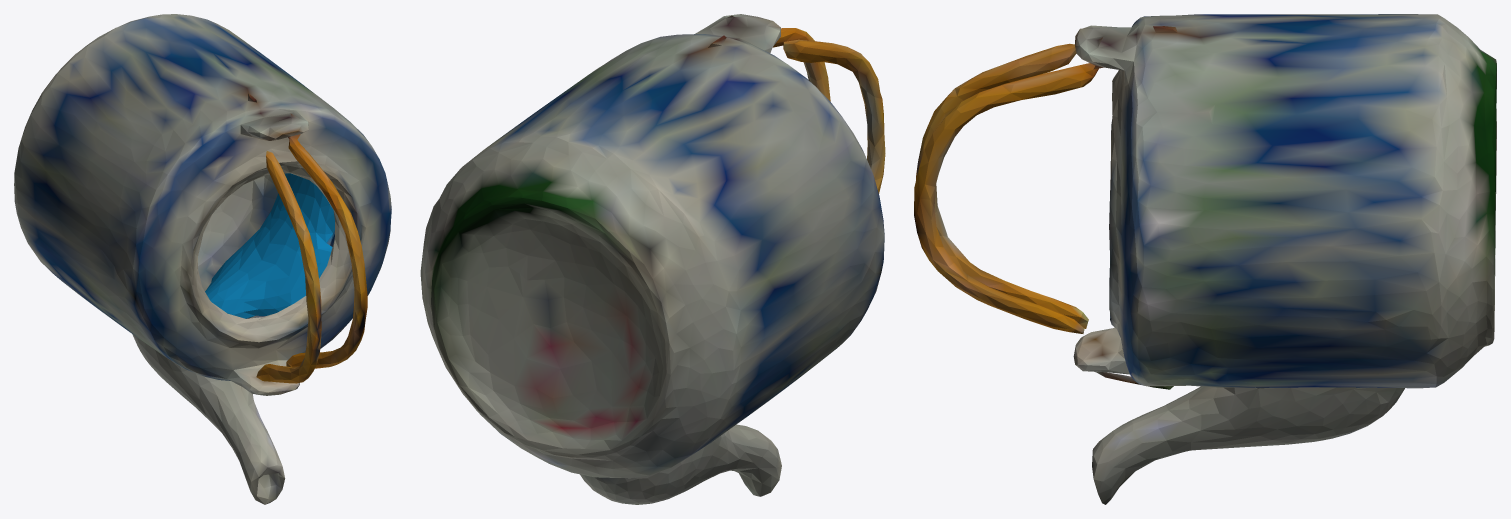
The model's file is scan.obj.
The picture shows the model from 3 angles, left to right: view 1: azimuth 30°, elevation 25°; view 2: azimuth 150°, elevation 25°; view 3: azimuth 270°, elevation 25°; orthographic projection. The views are drawn at different scales.
Visible parts, largest first — view 1: scan.ply; view 2: scan.ply; view 3: scan.ply.
Boxes of the visible parts, x1,y1,x2,y2 form: scan.ply: (14,14,391,504); scan.ply: (420,14,885,504); scan.ply: (914,14,1496,504).
Size of the model in its own units: 0.145 by 0.2052 by 0.2251.
